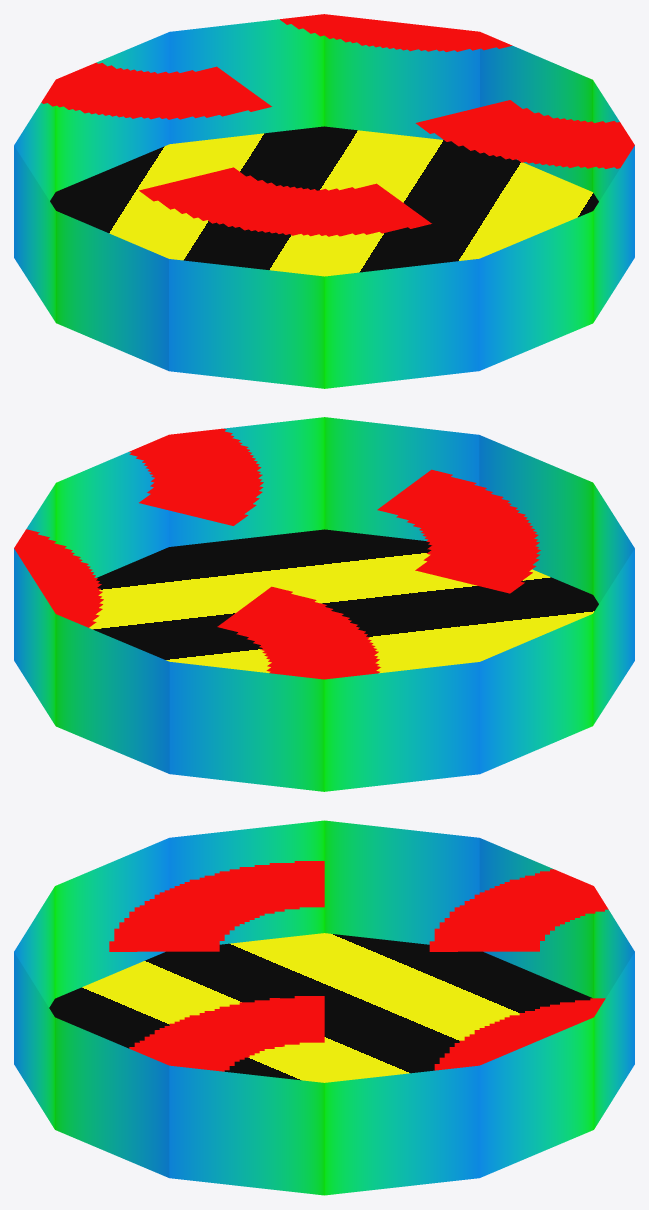
The model's file is uvmd-0258.glb.
3 renders of one model, top to bottom at view 1: azimuth 30°, elevation 25°; view 2: azimuth 150°, elevation 25°; view 3: azimuth 270°, elevation 25°, orthographic.
Parts seen in each view (by area): view 1: uvmd-0258; view 2: uvmd-0258; view 3: uvmd-0258.
Part boxes in pixels (left/top/right/bottom): uvmd-0258: left=14, top=14, right=634, bottom=388; uvmd-0258: left=14, top=417, right=634, bottom=791; uvmd-0258: left=14, top=820, right=634, bottom=1195.
Size of the model in its own units: 500 by 100 by 500.
Materials: 3 (3 with a texture image).
